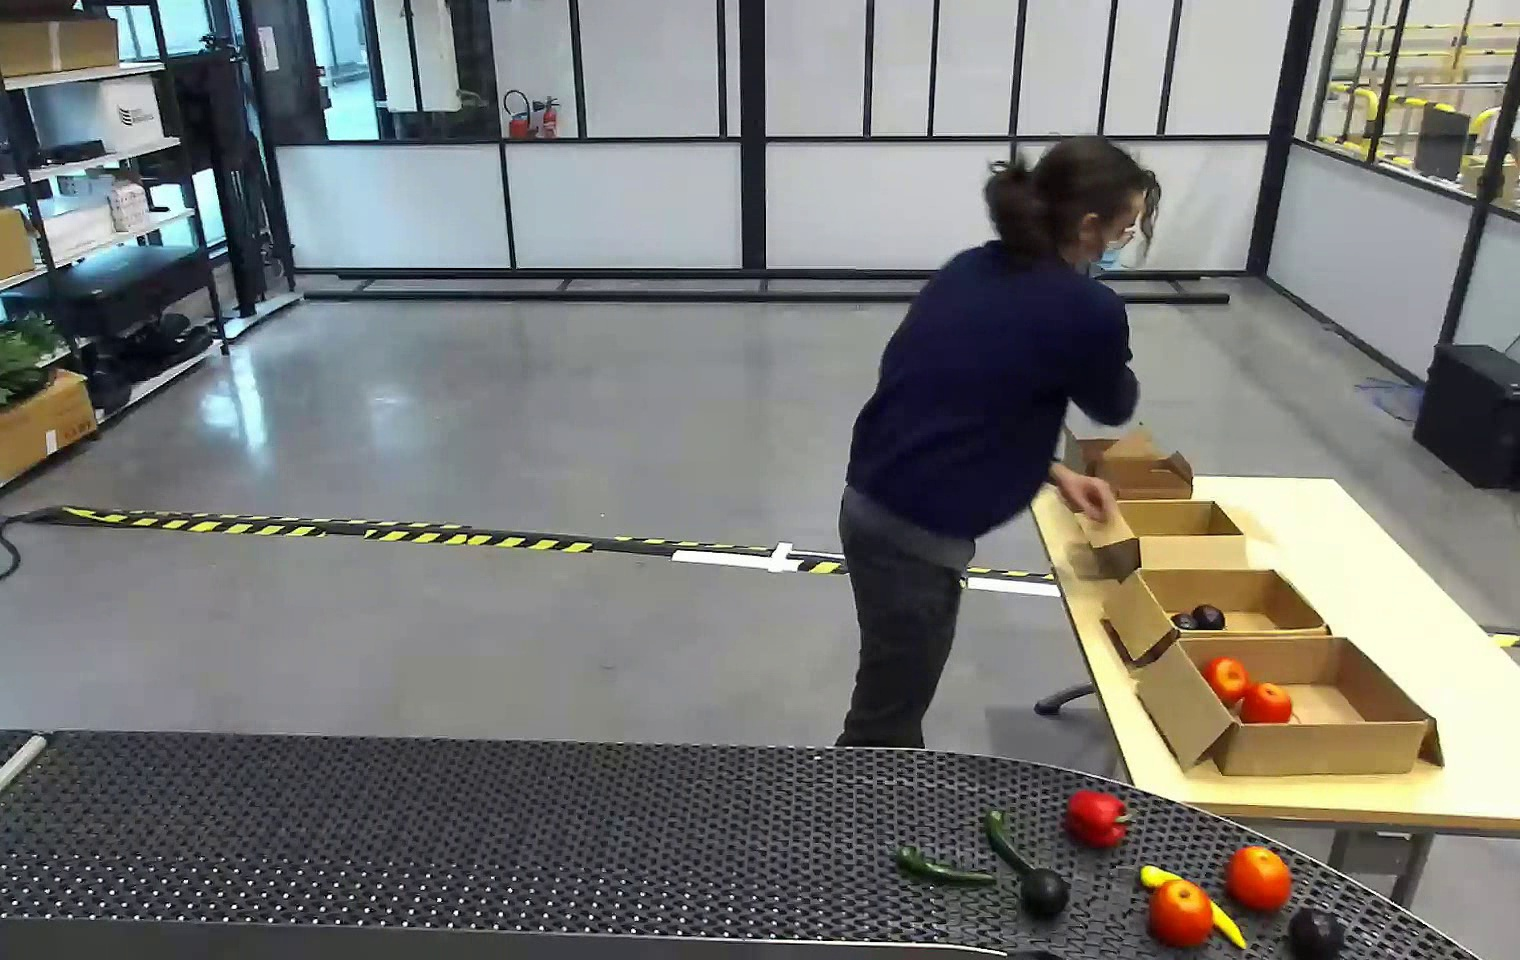Main droite: (963, 695, 1063, 841)
